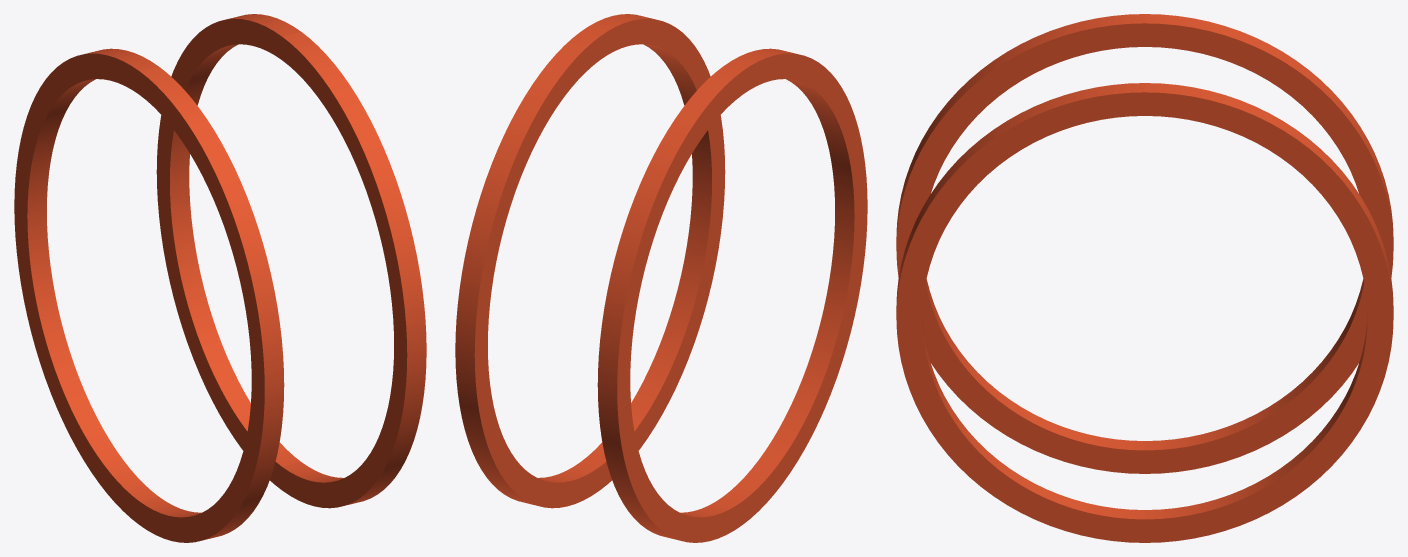
File: dynamic_balancing_machine_pressure.glb
3 views of the same model, side by side, from view 1: azimuth 30°, elevation 25°; view 2: azimuth 150°, elevation 25°; view 3: azimuth 270°, elevation 25° (orthographic).
Visible parts, largest first — view 1: pressure__front, pressure__back; view 2: pressure__back, pressure__front; view 3: pressure__back, pressure__front.
Boxes of the visible parts, x1,y1,x2,y2 form: pressure__front: (139,32,426,542); pressure__back: (14,14,300,524); pressure__back: (455,32,742,542); pressure__front: (581,14,867,524); pressure__back: (1145,14,1393,542); pressure__front: (896,14,1144,542).
Bounding box in the file's own units: 0.25 × 0.67 × 0.67.
